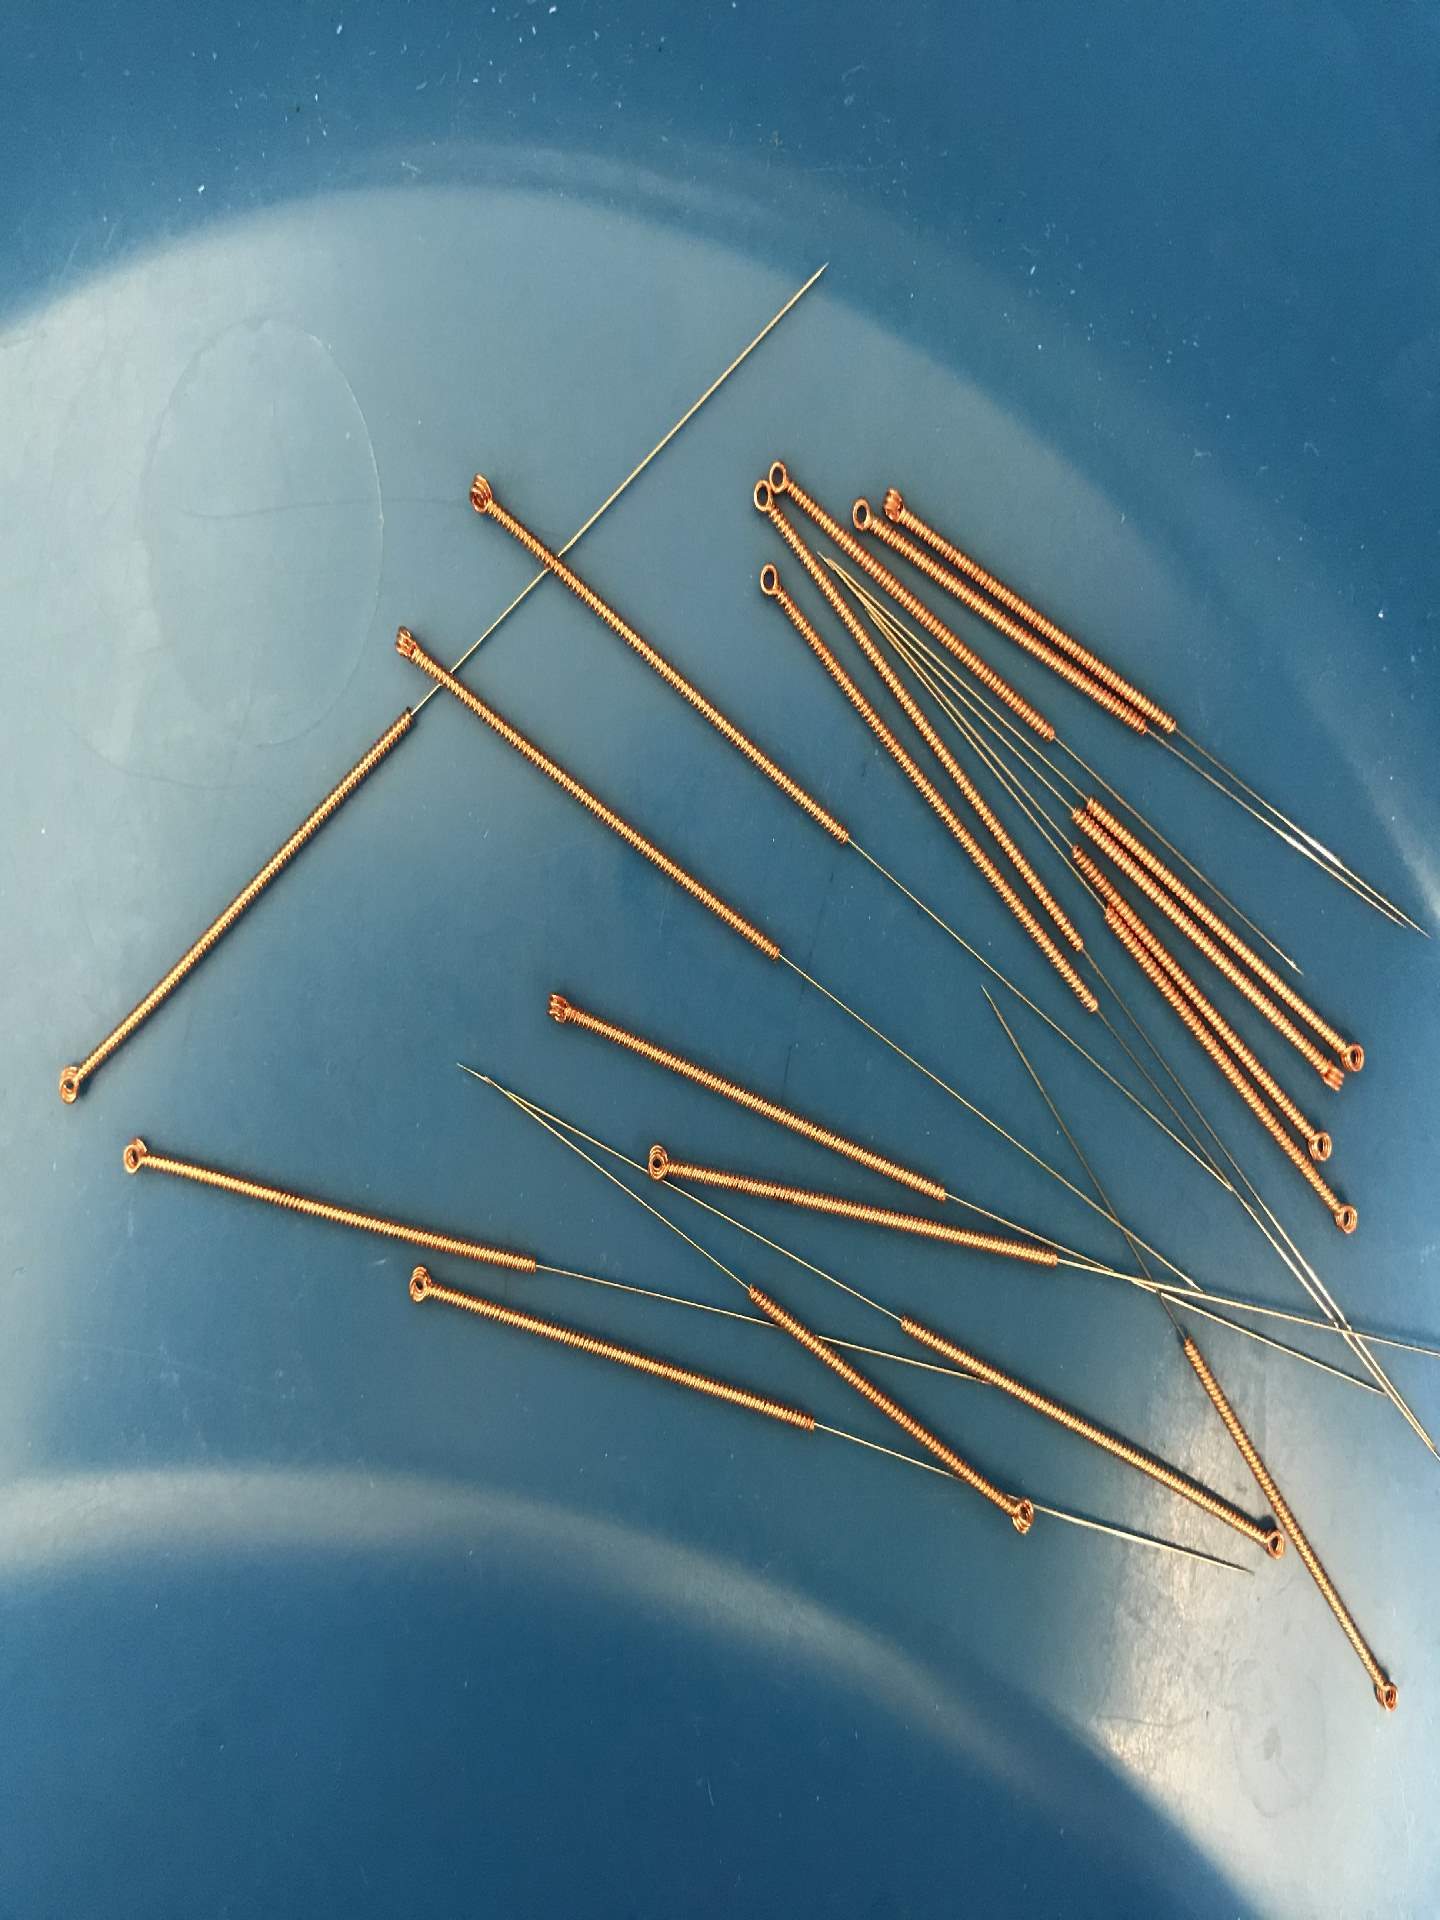needle: (44, 1046, 101, 1116), (452, 463, 510, 528), (107, 1126, 165, 1190), (740, 550, 793, 615), (381, 615, 437, 676), (634, 1135, 688, 1194), (1319, 1190, 1369, 1253), (991, 1488, 1047, 1544), (393, 1258, 445, 1317), (1364, 1655, 1407, 1726), (534, 980, 585, 1036), (877, 472, 921, 531), (735, 470, 776, 528), (1243, 1519, 1290, 1569), (1299, 1116, 1342, 1169), (1334, 1031, 1376, 1078), (765, 457, 805, 505), (841, 490, 880, 537), (1311, 1057, 1349, 1101)
